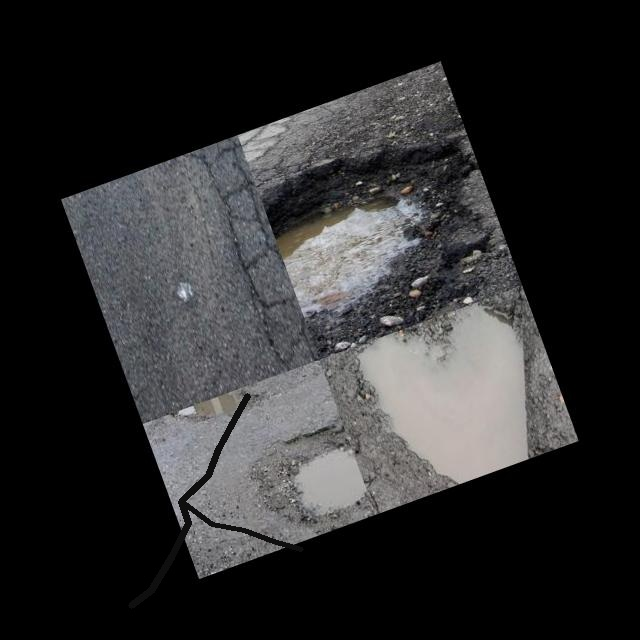road_crack: (121, 386, 257, 615)
